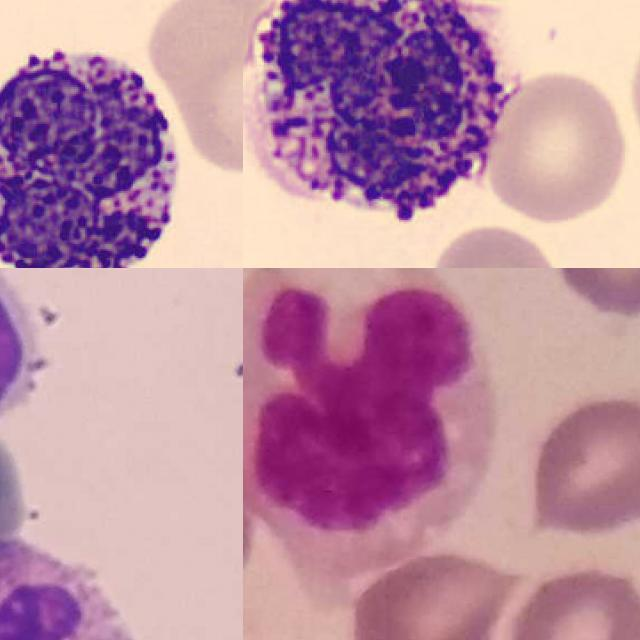Basophil: (243, 0, 527, 249), (0, 30, 195, 268)
Monocyte: (243, 268, 497, 528)
Neutrophil: (0, 542, 139, 640)
RBC: (483, 65, 634, 227), (144, 0, 243, 180), (424, 218, 568, 268), (624, 6, 640, 175)
